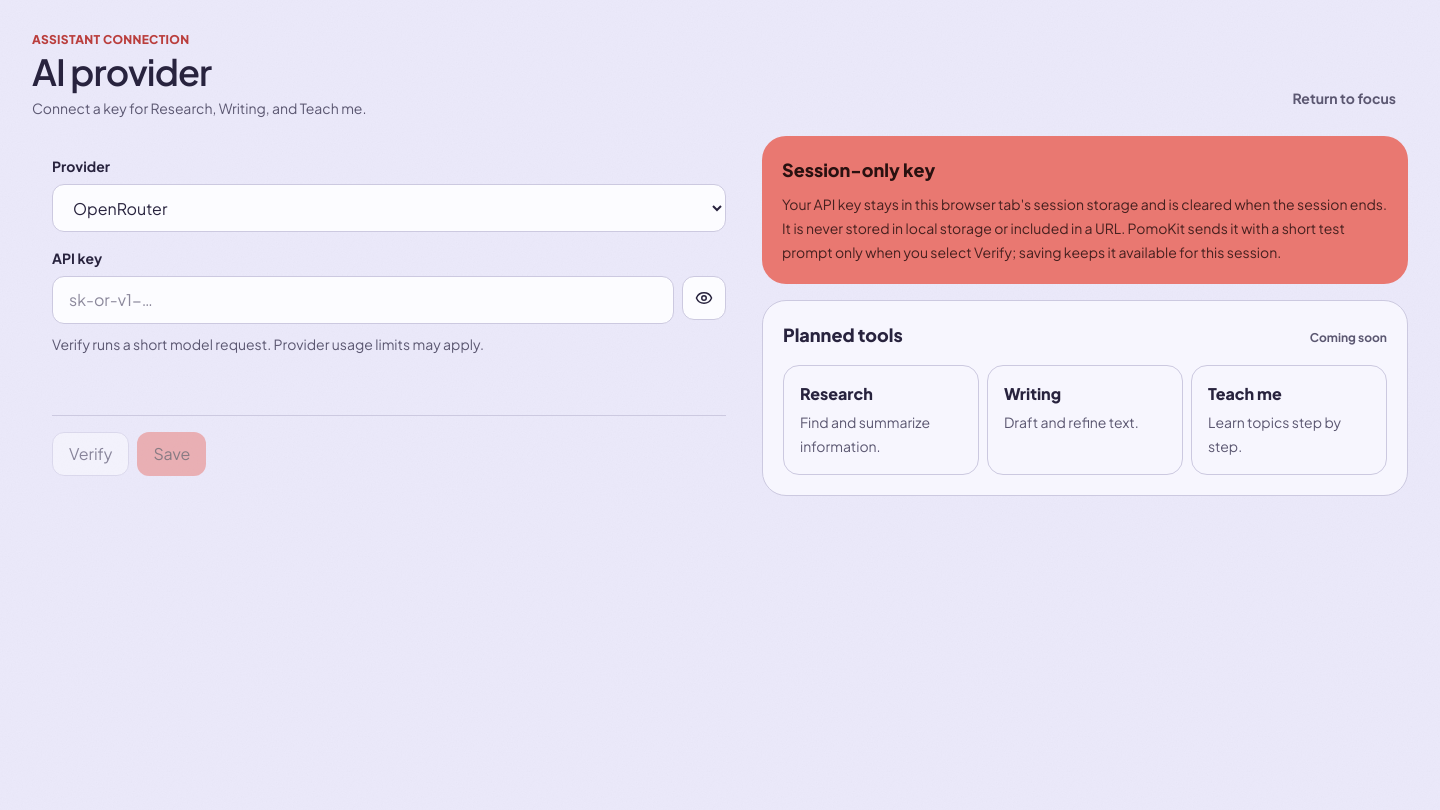
it: AssistantSettings › shows a save error if session storage cannot persist the key
Type "sk-or-test-token-12345" into the password field labelled "API key". click: (363, 300)
box: [52,276,674,324]
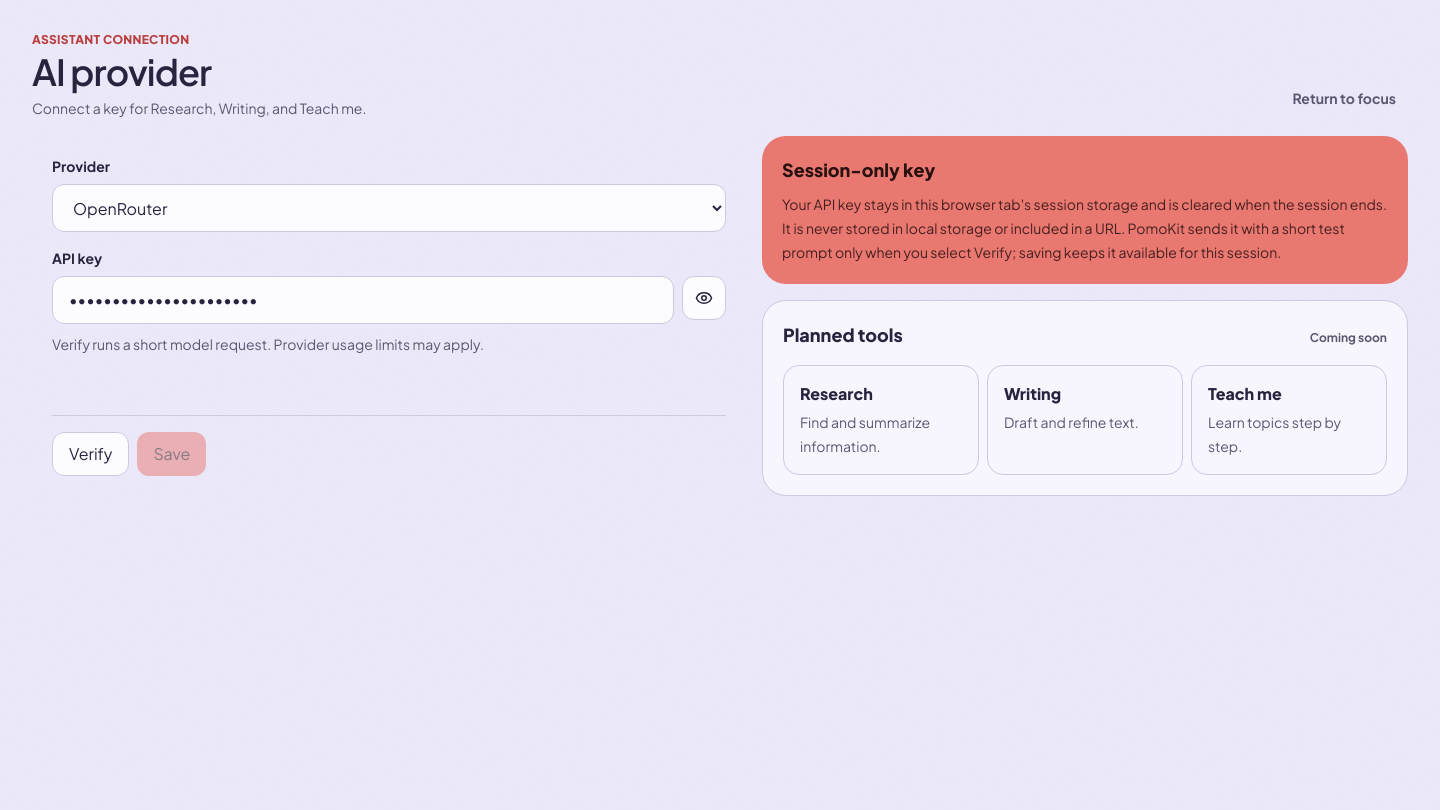
Click the button "Verify". click: (91, 454)
box: [52,432,129,476]
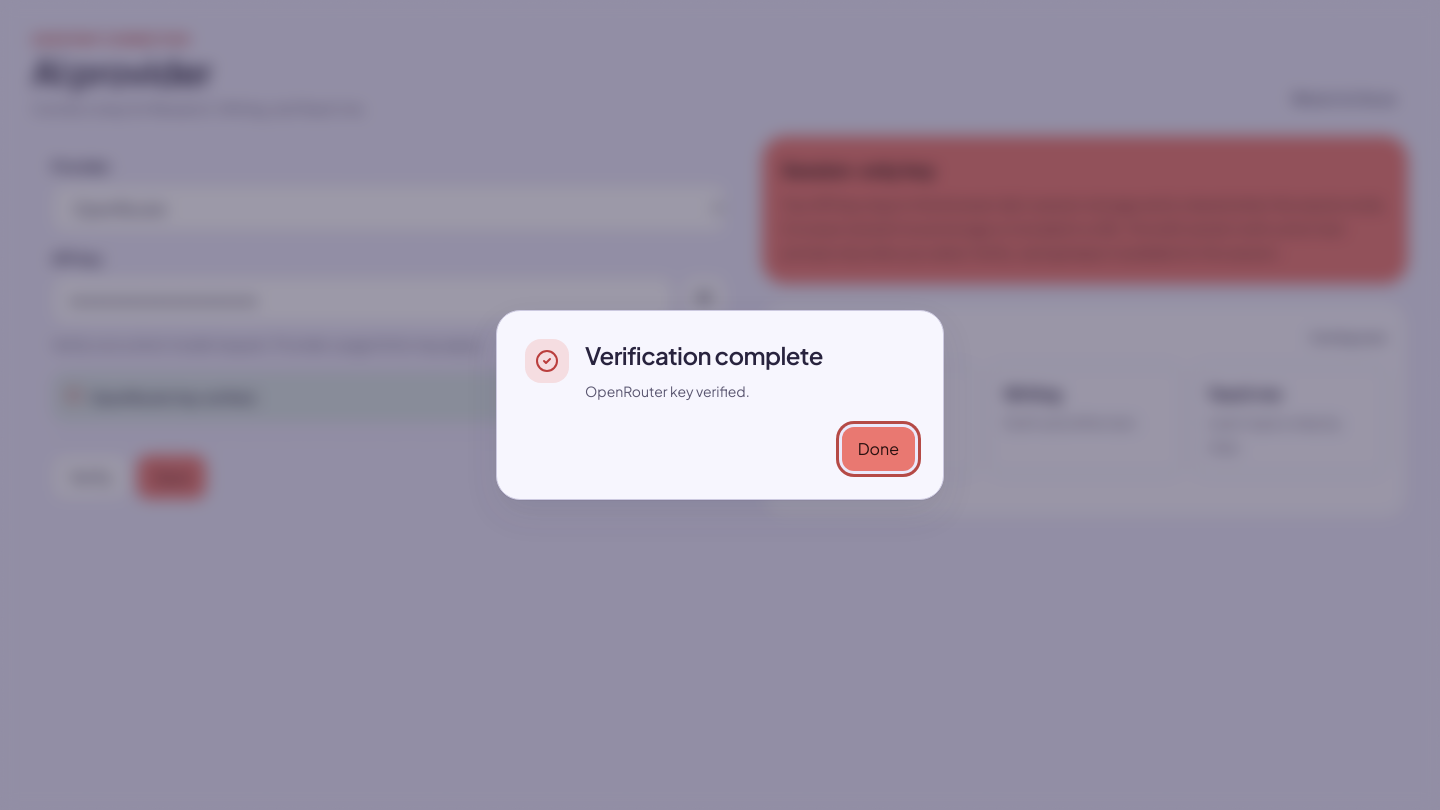
Result: the dialog shows "Verification complete" at [585,340,823,370]
Click the button "Done". click: (878, 449)
box: [842,427,915,471]
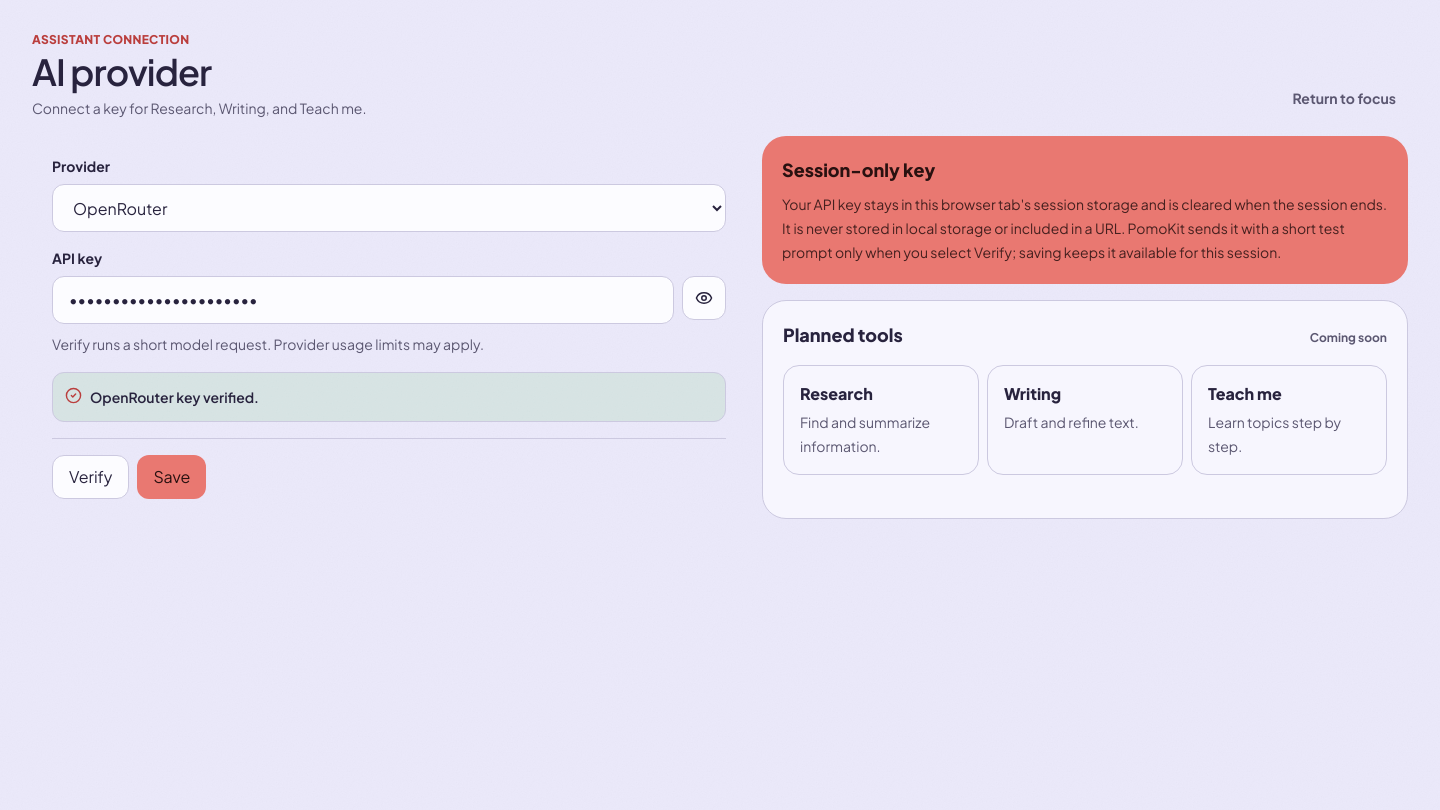
Click the button "Save". click: (172, 477)
box: [137,455,206,499]
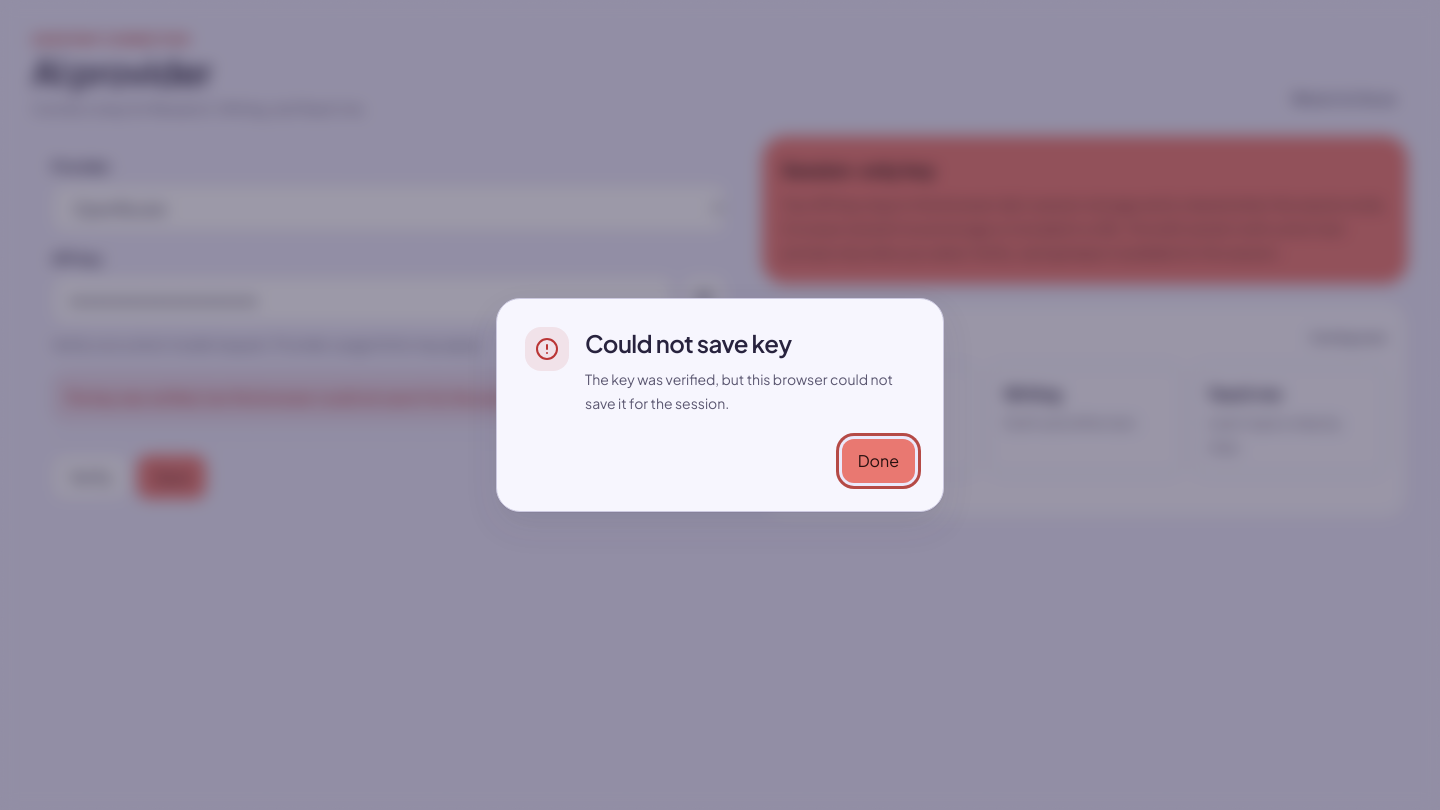
Result: the dialog shows "Could not save key" at [585,328,792,358]
Result: the dialog shows "The key was verified, but this browser could not save it for the session." at [585,370,893,412]
